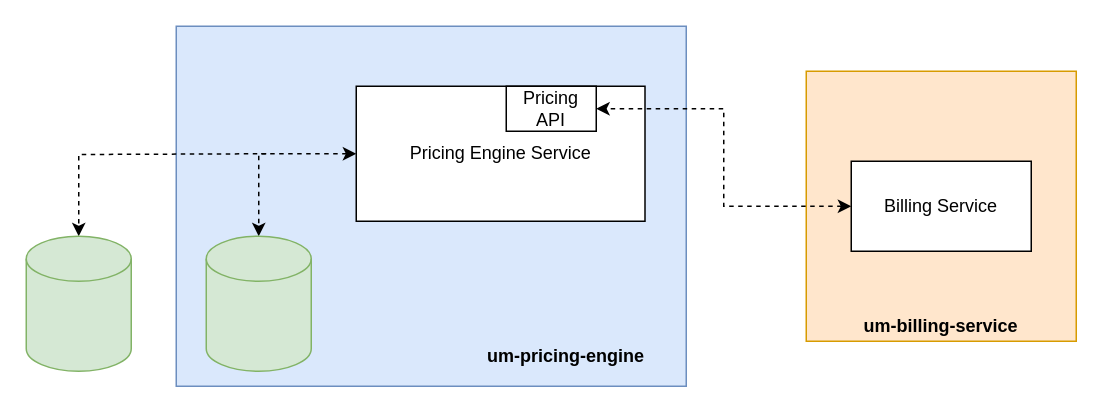
The diagram is 1103 pixels wide and 413 high, and some of its shapes have lost their labels. Each missing label, with the centre of its shape:
Local Pricing Database: the point at 258,303
Remote Pricing Database: the point at 78,303
